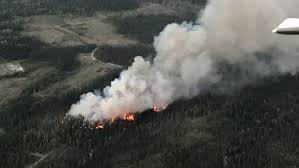smoke: (155, 7, 269, 74), (113, 55, 219, 98), (64, 83, 132, 113)
